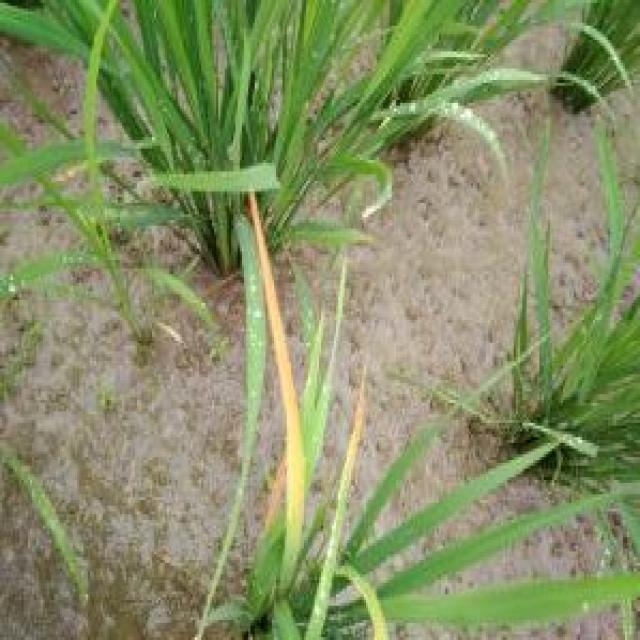Tungro: (244, 182, 326, 552), (334, 348, 384, 532)
